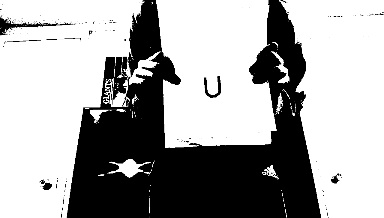U: (197, 74, 224, 97)
